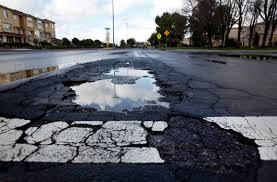pothole: (1, 115, 272, 170), (63, 60, 209, 116), (1, 65, 61, 114)
